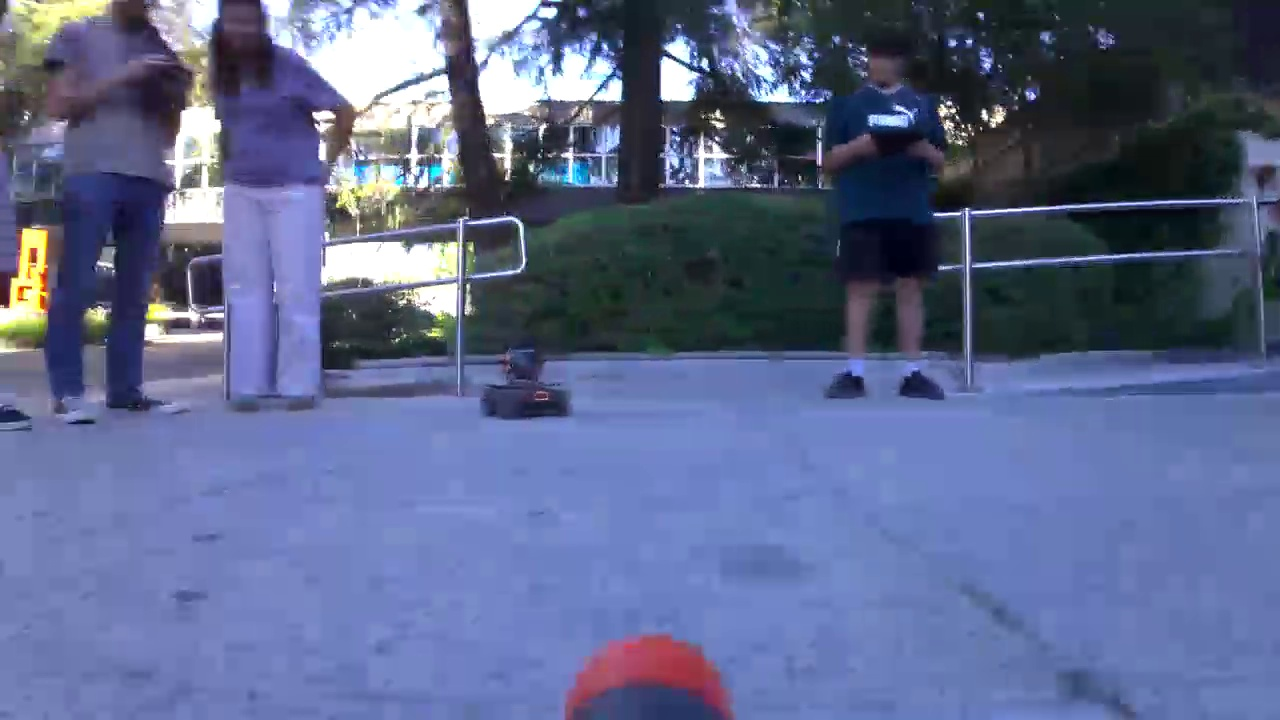robot: (480, 343, 574, 420)
